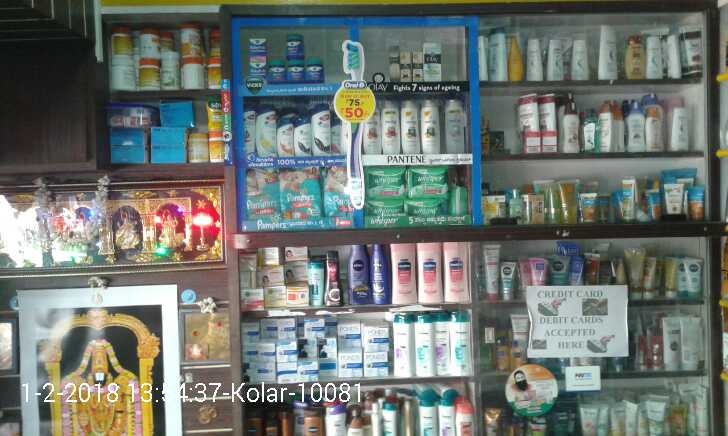beauty: (446, 99, 467, 154), (256, 111, 277, 158), (423, 101, 441, 153), (314, 105, 331, 158), (382, 104, 399, 156), (403, 100, 419, 153), (424, 42, 443, 84), (276, 119, 294, 159), (411, 47, 428, 88), (293, 121, 311, 158), (400, 49, 416, 89), (243, 110, 256, 157), (385, 47, 402, 80)
pharmacy: (279, 167, 321, 219), (247, 170, 279, 219), (405, 167, 449, 198), (365, 168, 405, 199), (325, 169, 351, 216), (404, 199, 446, 217), (363, 201, 404, 217), (266, 58, 286, 82), (286, 58, 304, 84), (306, 57, 323, 84), (283, 37, 302, 59), (249, 58, 265, 80), (247, 38, 266, 56)
